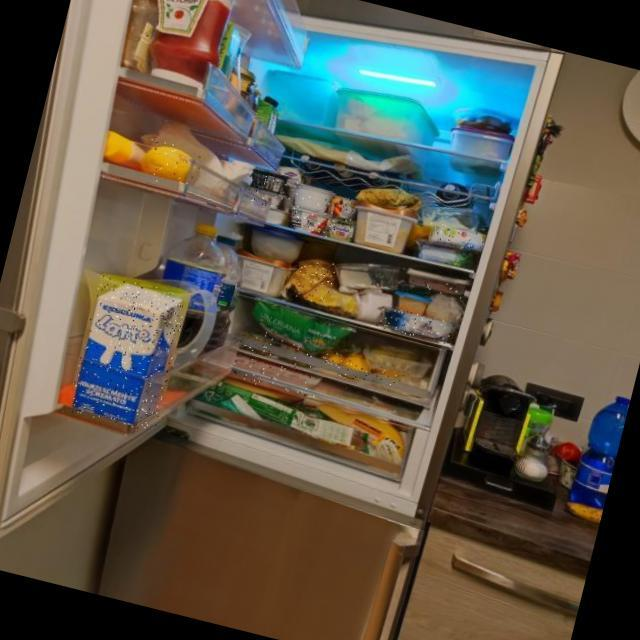Carne cerdo: (230, 352, 320, 398), (411, 275, 464, 298)
Queso: (377, 306, 454, 345), (351, 183, 427, 216), (293, 256, 337, 306), (427, 221, 486, 254), (326, 216, 357, 244)
Yogur: (283, 204, 331, 238), (290, 182, 334, 213), (247, 168, 291, 197), (245, 187, 296, 212), (271, 163, 312, 190), (327, 193, 359, 221)
